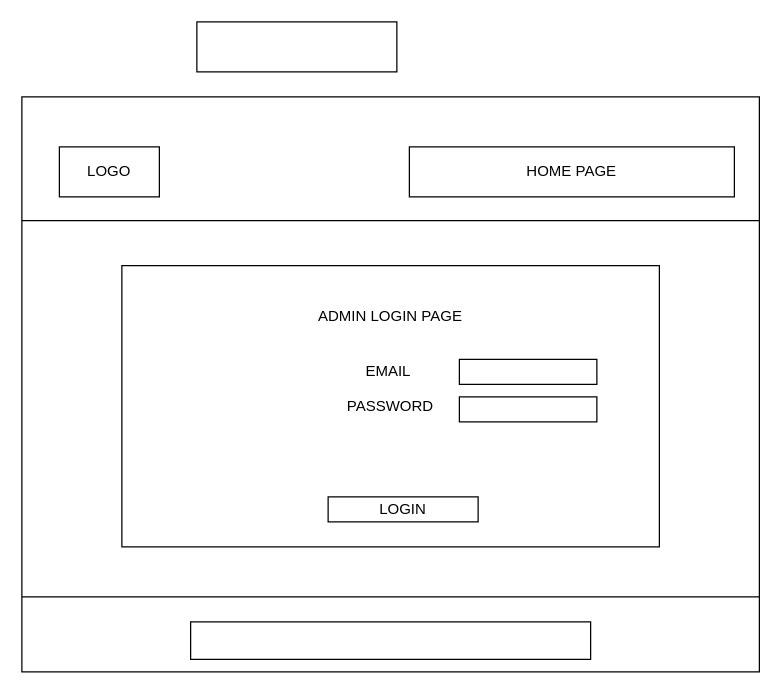
Some shapes in this 783 by 694 pixel diagram are drawn without their labels. Each missing label, with the box of its shape:
ADMIN LOGIN PAGE: (196, 21, 397, 72)
Footer HELPLINE NUMBER | EMAILID|: (189, 621, 591, 659)
